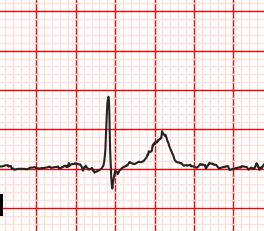ST Depression: (95, 163, 122, 192)
